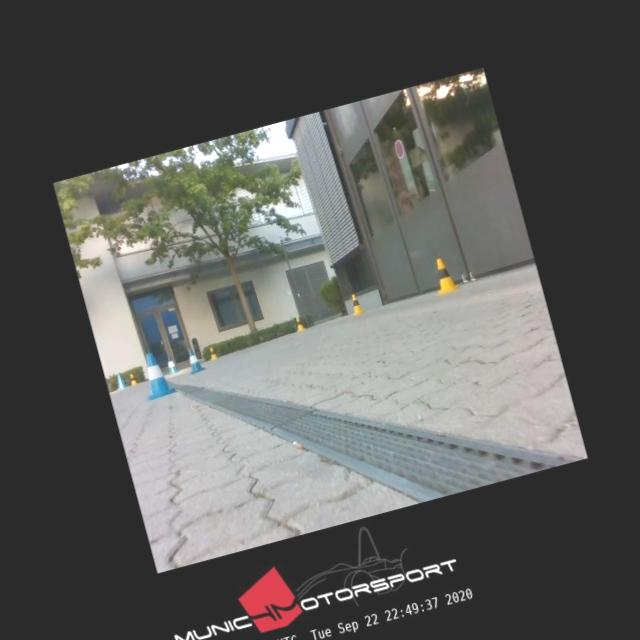blue_cone: (136, 348, 178, 400), (182, 347, 205, 374), (163, 356, 180, 375), (114, 372, 127, 388)
yellow_cone: (428, 256, 459, 294), (348, 293, 363, 315), (293, 316, 306, 332), (208, 346, 218, 361), (128, 372, 138, 386)
